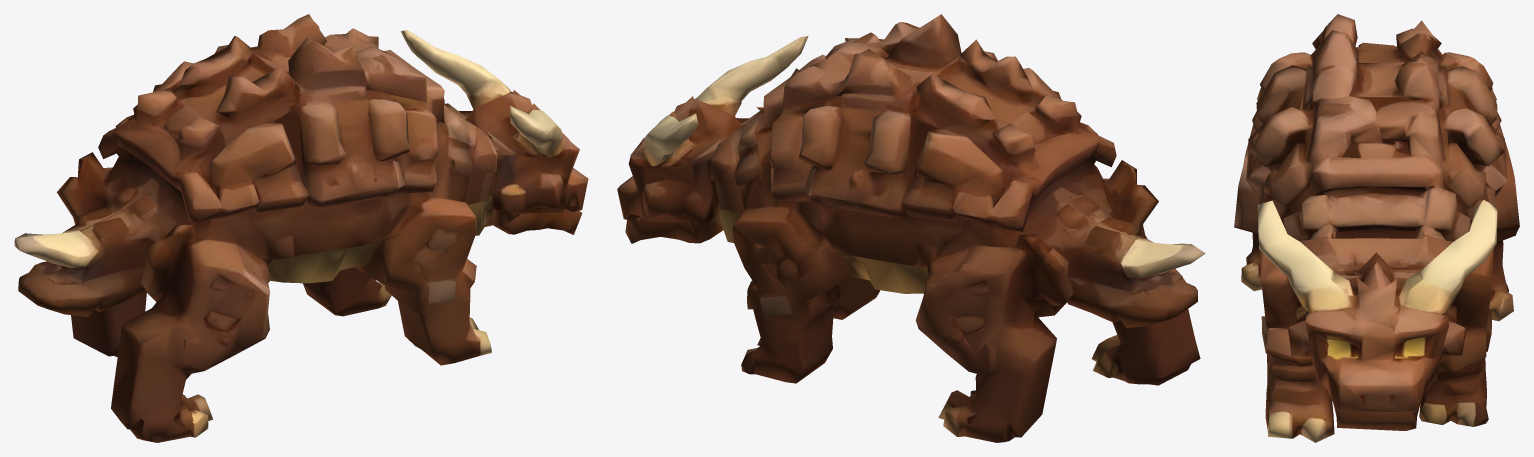
The model's file is ground.glb.
The picture shows the model from 3 angles, left to right: view 1: azimuth 30°, elevation 25°; view 2: azimuth 150°, elevation 25°; view 3: azimuth 270°, elevation 25°; orthographic projection. The views are drawn at different scales.
Parts seen in each view (by area): view 1: tripo_node_eb30968c-54fe-4806-b07f-18b814ddffae; view 2: tripo_node_eb30968c-54fe-4806-b07f-18b814ddffae; view 3: tripo_node_eb30968c-54fe-4806-b07f-18b814ddffae.
Part boxes in pixels (x1,y1,x2,y2): tripo_node_eb30968c-54fe-4806-b07f-18b814ddffae: [14, 14, 588, 442]; tripo_node_eb30968c-54fe-4806-b07f-18b814ddffae: [617, 14, 1205, 442]; tripo_node_eb30968c-54fe-4806-b07f-18b814ddffae: [1234, 14, 1519, 442].
Bounding box in the file's own units: 1 × 0.5577 × 0.4333.
1 material, 1 textured.
